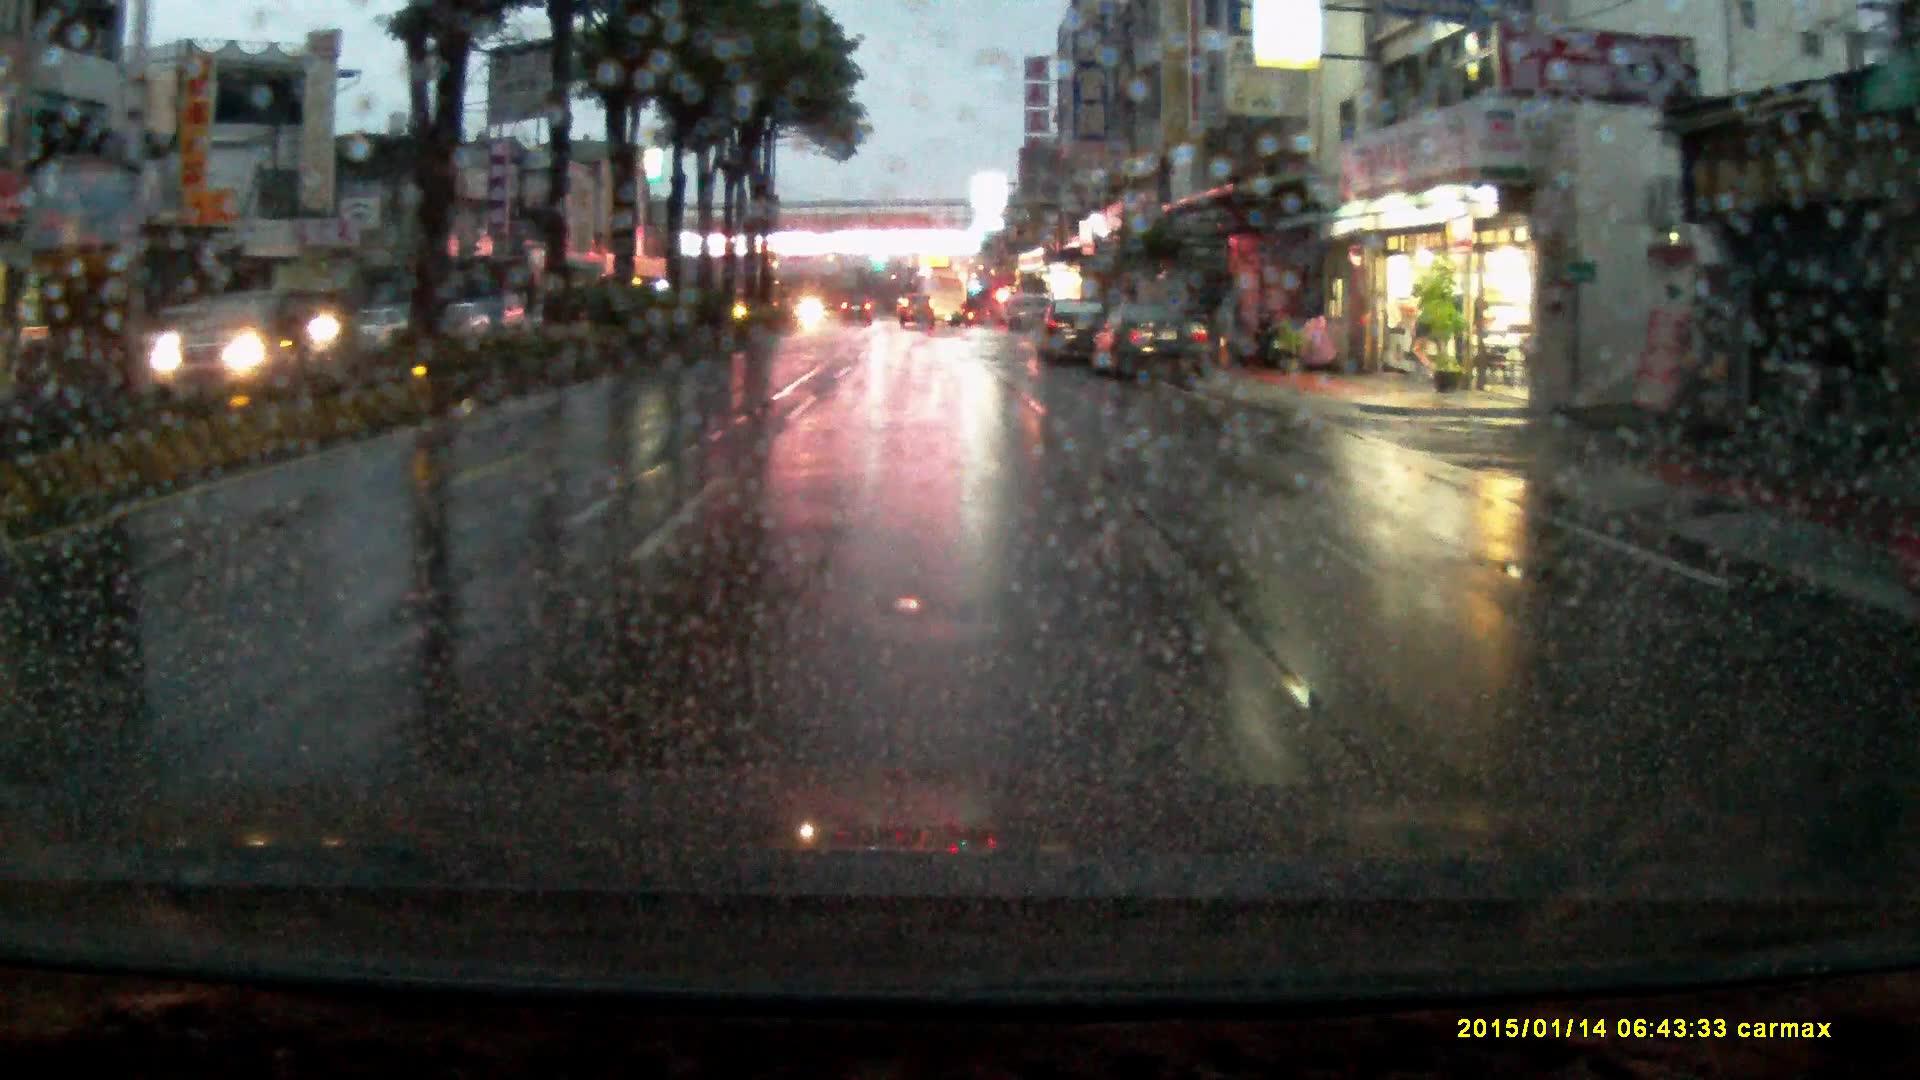rider: (294, 248, 382, 408)
vehicle: (142, 288, 327, 394), (1086, 299, 1210, 387), (133, 305, 224, 371), (1028, 296, 1107, 367), (910, 276, 967, 329), (897, 293, 933, 330), (839, 296, 872, 325)
